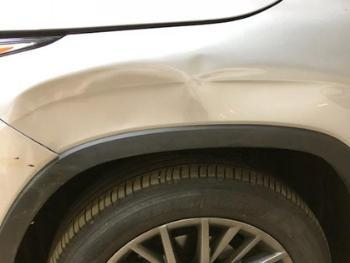dent: (15, 53, 350, 137)
